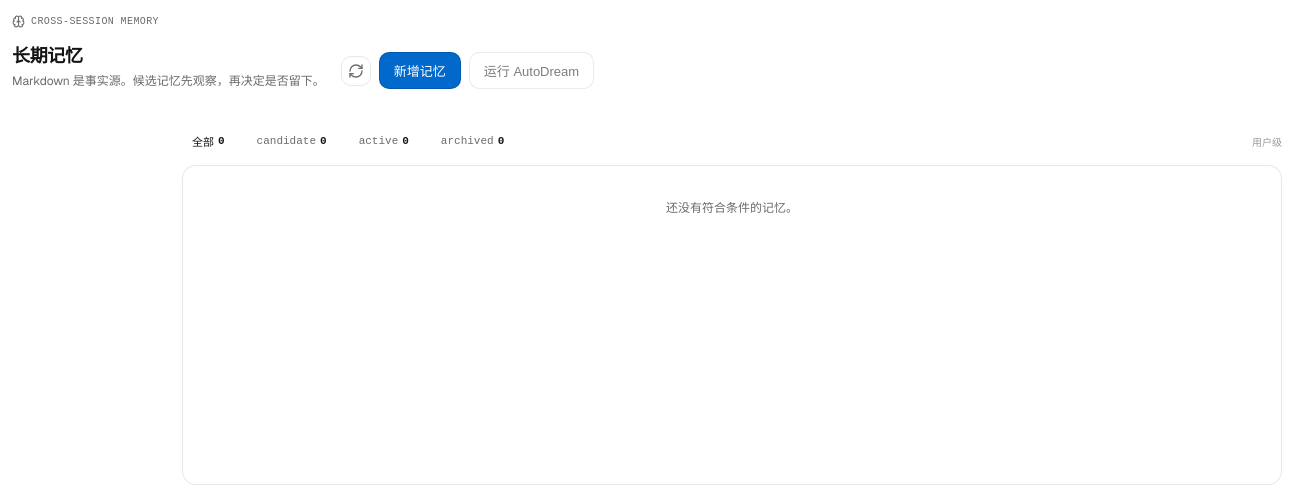
it: Memory management view › disables AutoDream when the gate is closed and explains why on hover
Hover over the element showing "运行 AutoDream" at (532, 70), box x1=469 y1=52 x2=594 y2=89
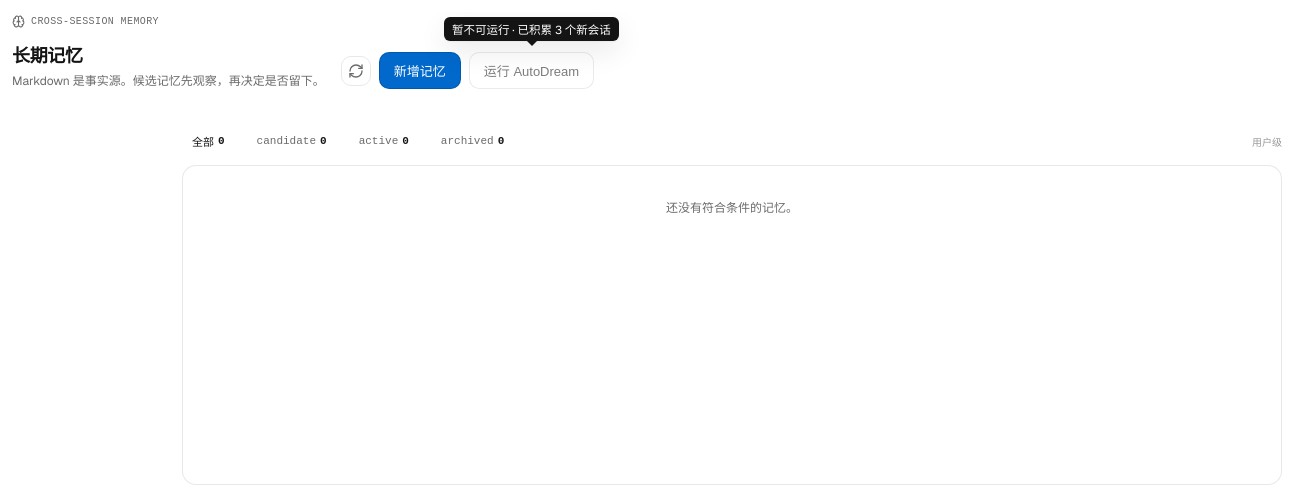
Expected: the tooltip "暂不可运行 · 已积累 3 个新会话" is shown, x1=444 y1=17 x2=619 y2=41
Expected: the tooltip reads "暂不可运行 · 已积累 3 个新会话", x1=452 y1=22 x2=611 y2=37
